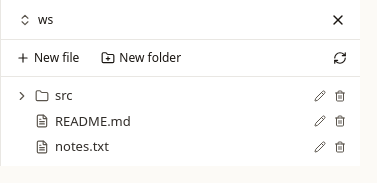
Test: WorkspacePanel — workspace switcher › lists workspaces and switches the session binding
Expected: the button with test id "tree-row-README.md" is shown, 11,108 -> 310,134
Click the button with test id "workspace-switcher" at (36, 20), box 9,6 -> 62,34
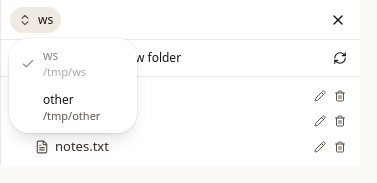
Now the menu item with test id "workspace-option-/tmp/ws" is shown, box 21,47 -> 86,79
Click the menu item with test id "workspace-option-/tmp/other" at (72, 107), box 43,91 -> 100,123
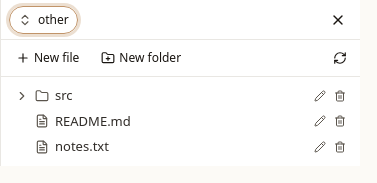
Now the button with test id "workspace-switcher" reads "other", box 9,6 -> 78,34
